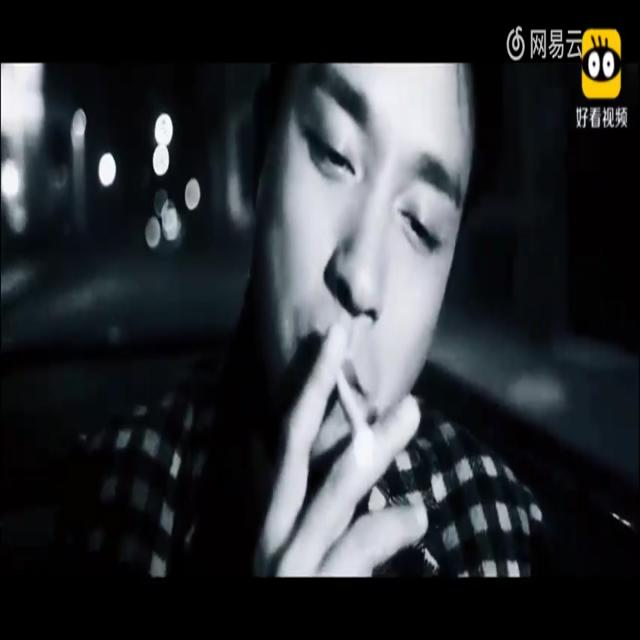cigarette: (334, 366, 376, 457)
